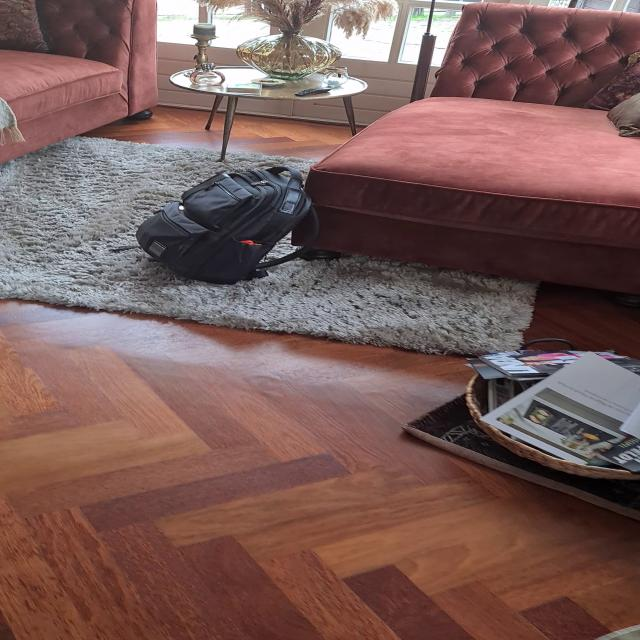backpack: (128, 163, 324, 288)
